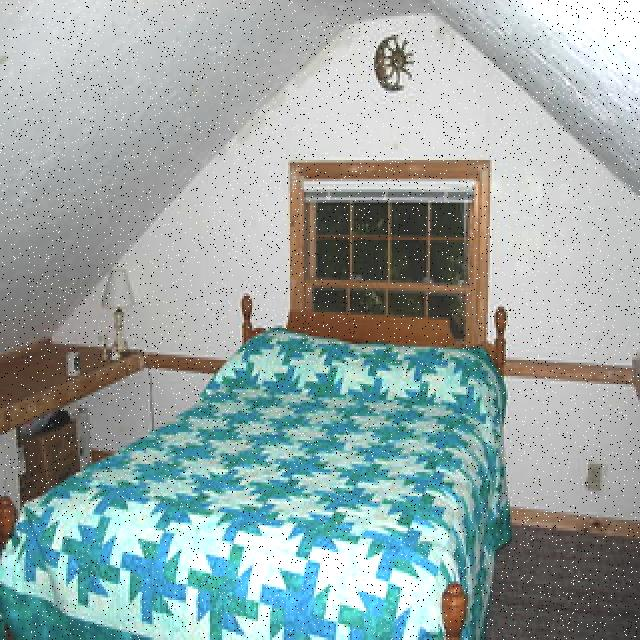bed: (0, 308, 505, 640)
